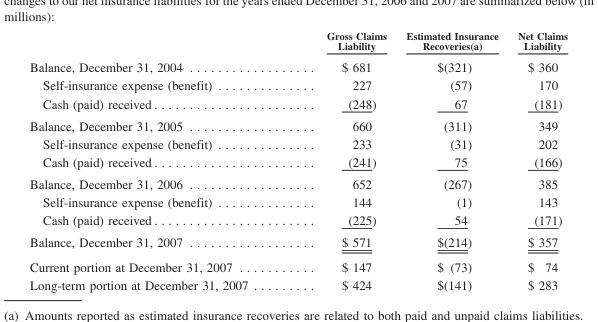table: (29, 29, 567, 291)
table column: (29, 29, 286, 291), (395, 29, 507, 291), (286, 29, 395, 291), (507, 29, 567, 291)
table column header: (29, 29, 567, 55)
table row: (29, 29, 567, 55), (29, 230, 567, 253), (29, 253, 567, 275), (29, 55, 567, 76), (29, 94, 567, 114), (29, 114, 567, 134), (29, 152, 567, 172), (29, 172, 567, 192), (29, 210, 567, 230), (29, 76, 567, 94), (29, 134, 567, 152), (29, 192, 567, 210), (29, 275, 567, 291)
